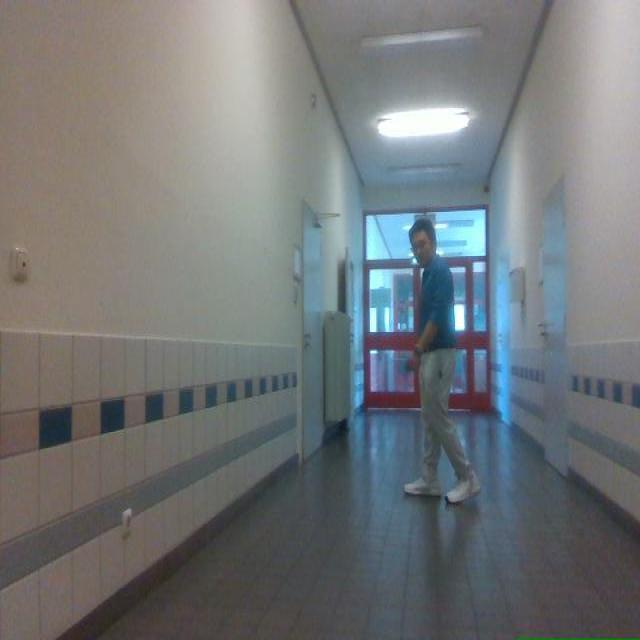humans: (404, 217, 479, 503)
